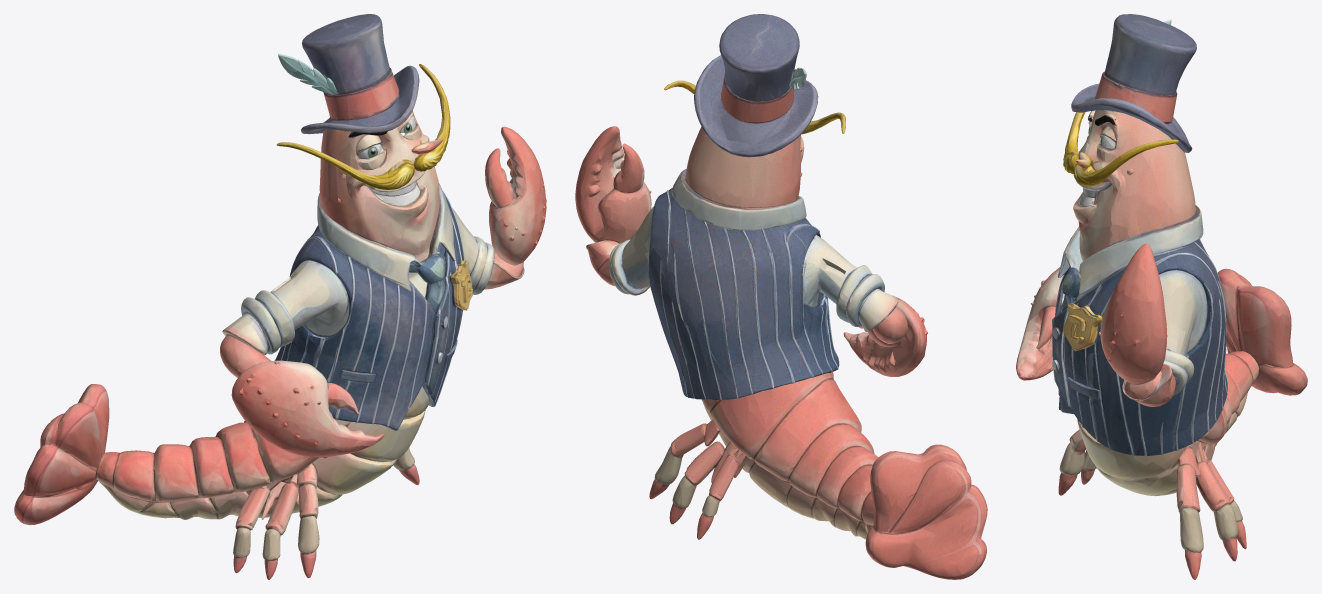
The picture shows the model from 3 angles, left to right: view 1: azimuth 30°, elevation 25°; view 2: azimuth 150°, elevation 25°; view 3: azimuth 270°, elevation 25°; orthographic projection. The views are drawn at different scales.
Bounding box in the file's own units: 1.85 × 1.9 × 0.9638.
Materials: 1 (1 with a texture image).
